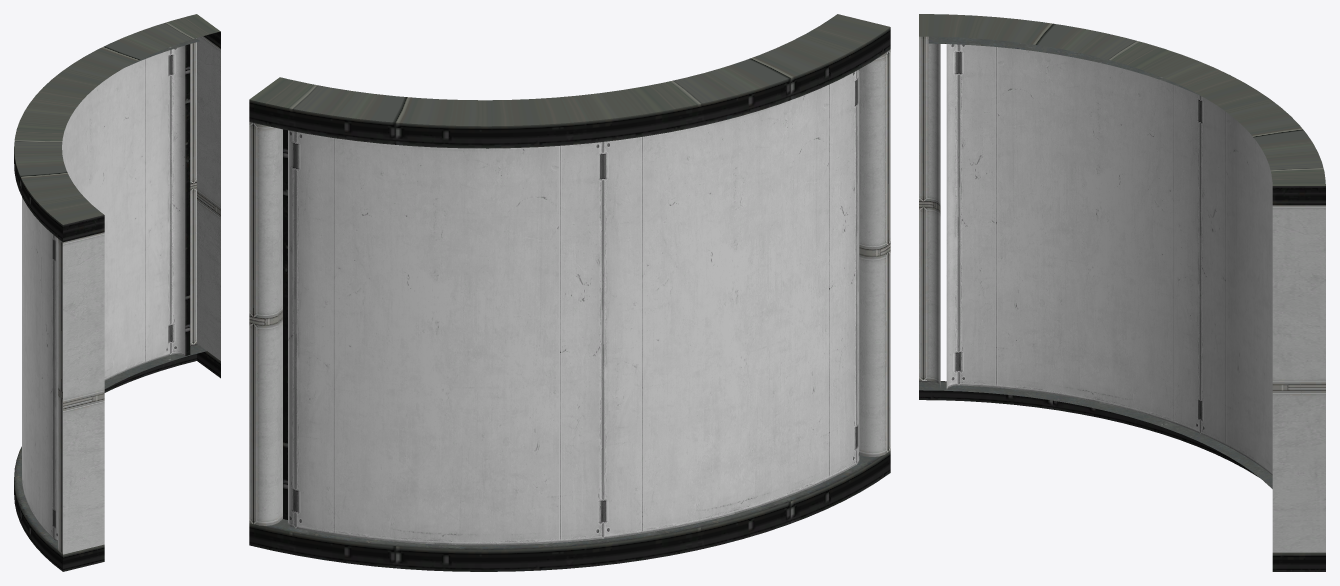
The model's file is Neon_Wall_6x4_Bend_Out_01.FBX.
The picture shows the model from 3 angles, left to right: view 1: azimuth 30°, elevation 25°; view 2: azimuth 150°, elevation 25°; view 3: azimuth 270°, elevation 25°; orthographic projection. The views are drawn at different scales.
Visible parts, largest first — view 1: Neon_Wall_6x4_Bend_Out_01; view 2: Neon_Wall_6x4_Bend_Out_01; view 3: Neon_Wall_6x4_Bend_Out_01.
Part boxes in pixels (box(x1,y1,x2,y2)): Neon_Wall_6x4_Bend_Out_01: box(14, 14, 220, 571); Neon_Wall_6x4_Bend_Out_01: box(249, 14, 890, 571); Neon_Wall_6x4_Bend_Out_01: box(919, 14, 1325, 571).
Size of the model in its own units: 3.82 by 4 by 3.82.
